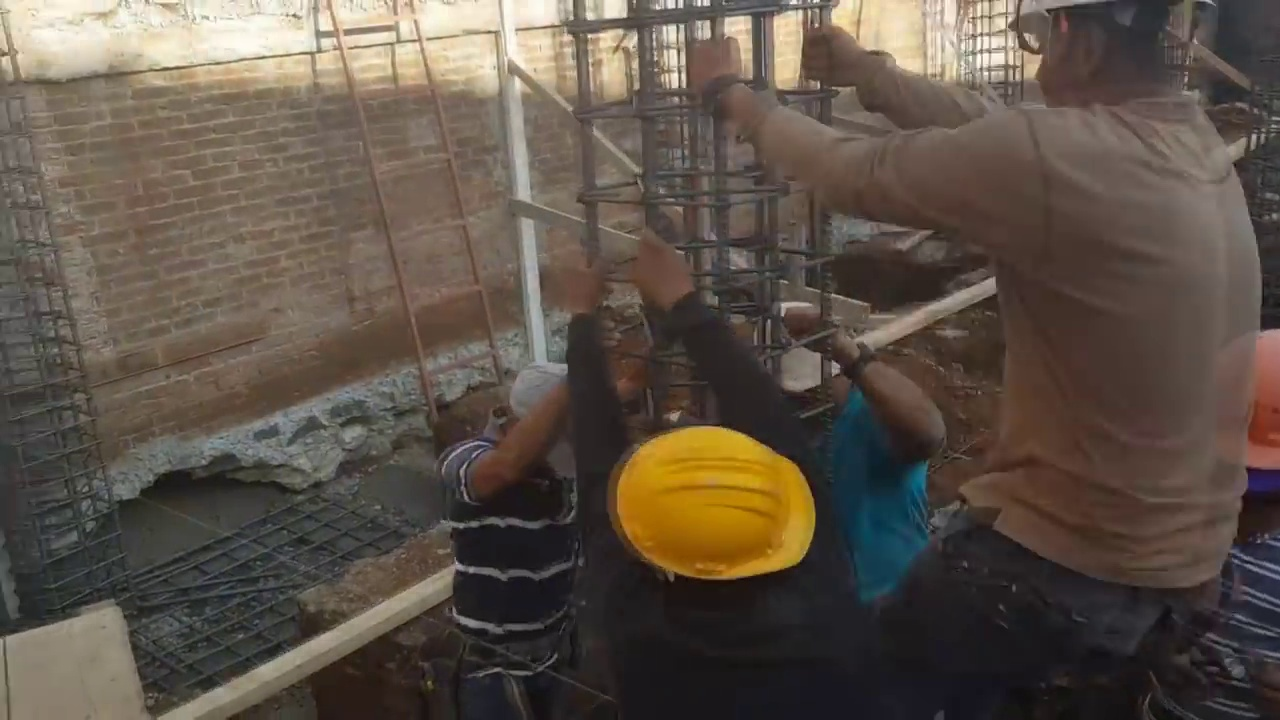helmet: (610, 418, 810, 600)
helmet-off: (753, 304, 873, 429), (484, 363, 577, 473)
helmet-on: (1011, 0, 1176, 117)
person: (735, 0, 1255, 720), (424, 298, 628, 715), (751, 299, 951, 612)
